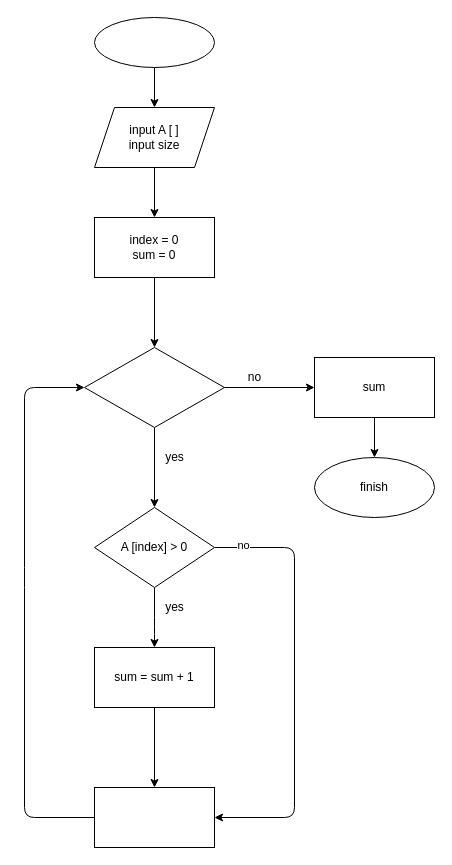
Image size: 452x865. Some labels were removed from this diagram. The shapes that lost their labels are listed below. From the top down, each one's box as (x1, y1, x2, y2) in pixels, then its label:
(94, 16, 214, 68): start
(84, 346, 224, 428): index < size?
(94, 786, 214, 848): index = index + 1
